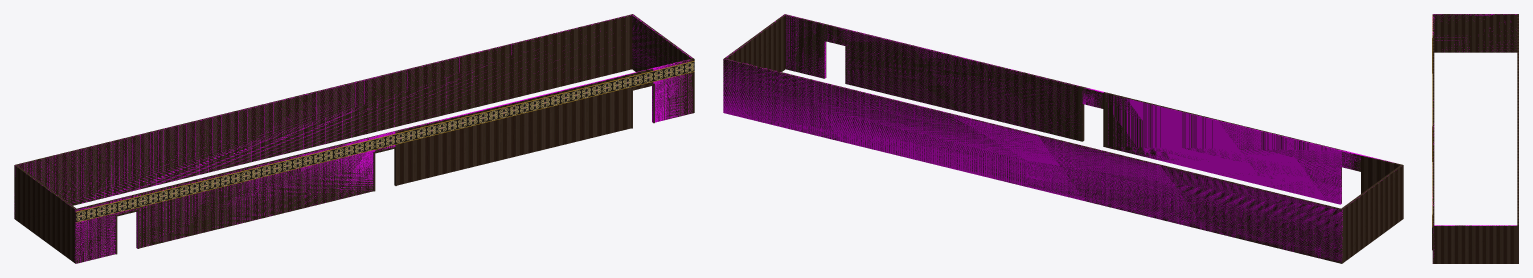
File: dinding.glb
The picture shows the model from 3 angles, left to right: view 1: azimuth 30°, elevation 25°; view 2: azimuth 150°, elevation 25°; view 3: azimuth 270°, elevation 25°; orthographic projection. The views are drawn at different scales.
Visible parts, largest first — view 1: dinding_belakang, dinding_depan, dinding_motif, col_back, col_front_1, dinding_kiri, dinding_kanan, col_front_3, col_front_0, col_side_r; view 2: col_back, dinding_belakang, dinding_depan, col_front_1, col_front_2, dinding_kiri, dinding_kanan, col_front_3; view 3: dinding_kiri, dinding_kanan, dinding_depan, dinding_belakang, dinding_motif, col_side_l, col_side_r.
Boxes of the visible parts, x1=… form: dinding_belakang: x1=14, y1=14, x2=633, y2=218; dinding_depan: x1=74, y1=58, x2=694, y2=263; dinding_motif: x1=75, y1=61, x2=694, y2=222; col_back: x1=14, y1=14, x2=633, y2=217; col_front_1: x1=136, y1=136, x2=374, y2=248; dinding_kiri: x1=15, y1=165, x2=75, y2=262; dinding_kanan: x1=632, y1=15, x2=692, y2=71; col_front_3: x1=652, y1=59, x2=692, y2=122; col_front_0: x1=74, y1=199, x2=116, y2=263; col_side_r: x1=632, y1=15, x2=691, y2=67; col_back: x1=723, y1=59, x2=1342, y2=261; dinding_belakang: x1=723, y1=58, x2=1343, y2=263; dinding_depan: x1=784, y1=14, x2=1403, y2=219; col_front_1: x1=1106, y1=94, x2=1341, y2=204; col_front_2: x1=845, y1=29, x2=1080, y2=135; dinding_kiri: x1=1341, y1=165, x2=1402, y2=262; dinding_kanan: x1=725, y1=15, x2=785, y2=71; col_front_3: x1=784, y1=14, x2=825, y2=78; dinding_kiri: x1=1434, y1=14, x2=1517, y2=52; dinding_kanan: x1=1434, y1=225, x2=1517, y2=263; dinding_depan: x1=1432, y1=14, x2=1434, y2=263; dinding_belakang: x1=1517, y1=14, x2=1518, y2=263; dinding_motif: x1=1432, y1=15, x2=1432, y2=234; col_side_l: x1=1435, y1=14, x2=1516, y2=51; col_side_r: x1=1434, y1=225, x2=1516, y2=225.
Size of the model in its own units: 36 by 3 by 6.24.
Materials: 3 (2 with a texture image).
